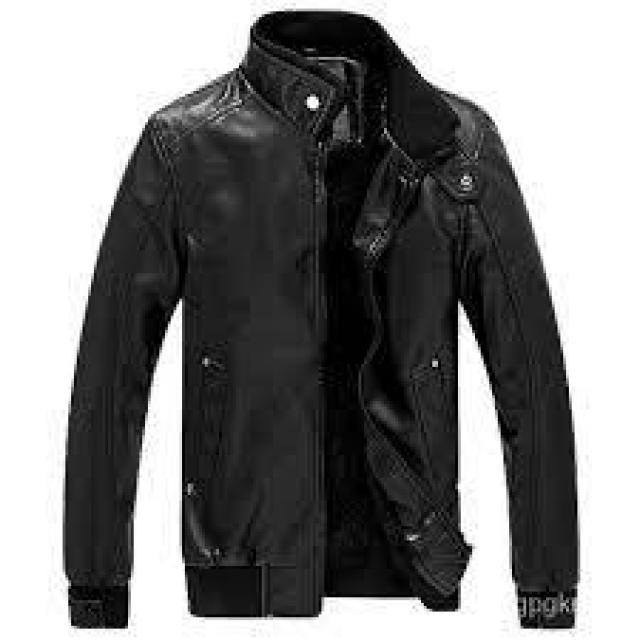jacket: (26, 5, 604, 640)
